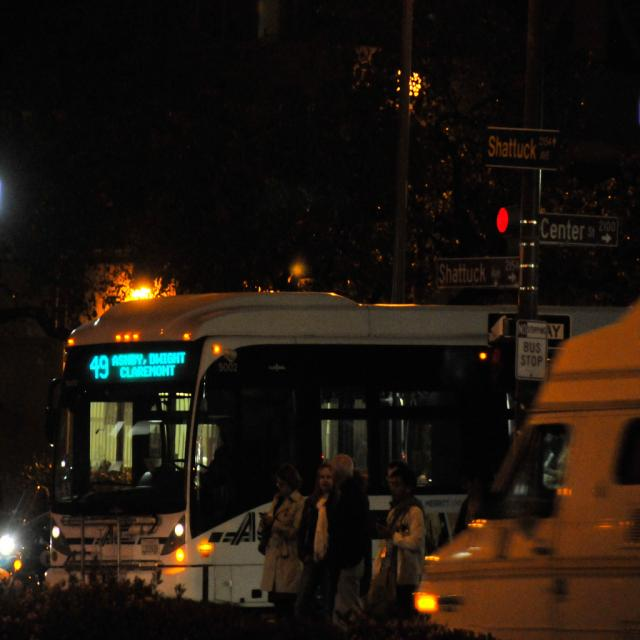Bus: (40, 217, 581, 618)
People: (363, 436, 448, 636), (288, 457, 357, 632), (258, 447, 312, 638), (326, 437, 364, 640)
car: (454, 320, 640, 640)
